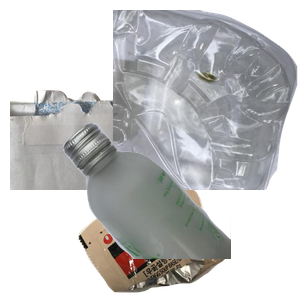glass: (60, 120, 300, 300)
paper: (10, 84, 250, 264)
plastic: (113, 10, 300, 190)
trash: (76, 170, 300, 300)
